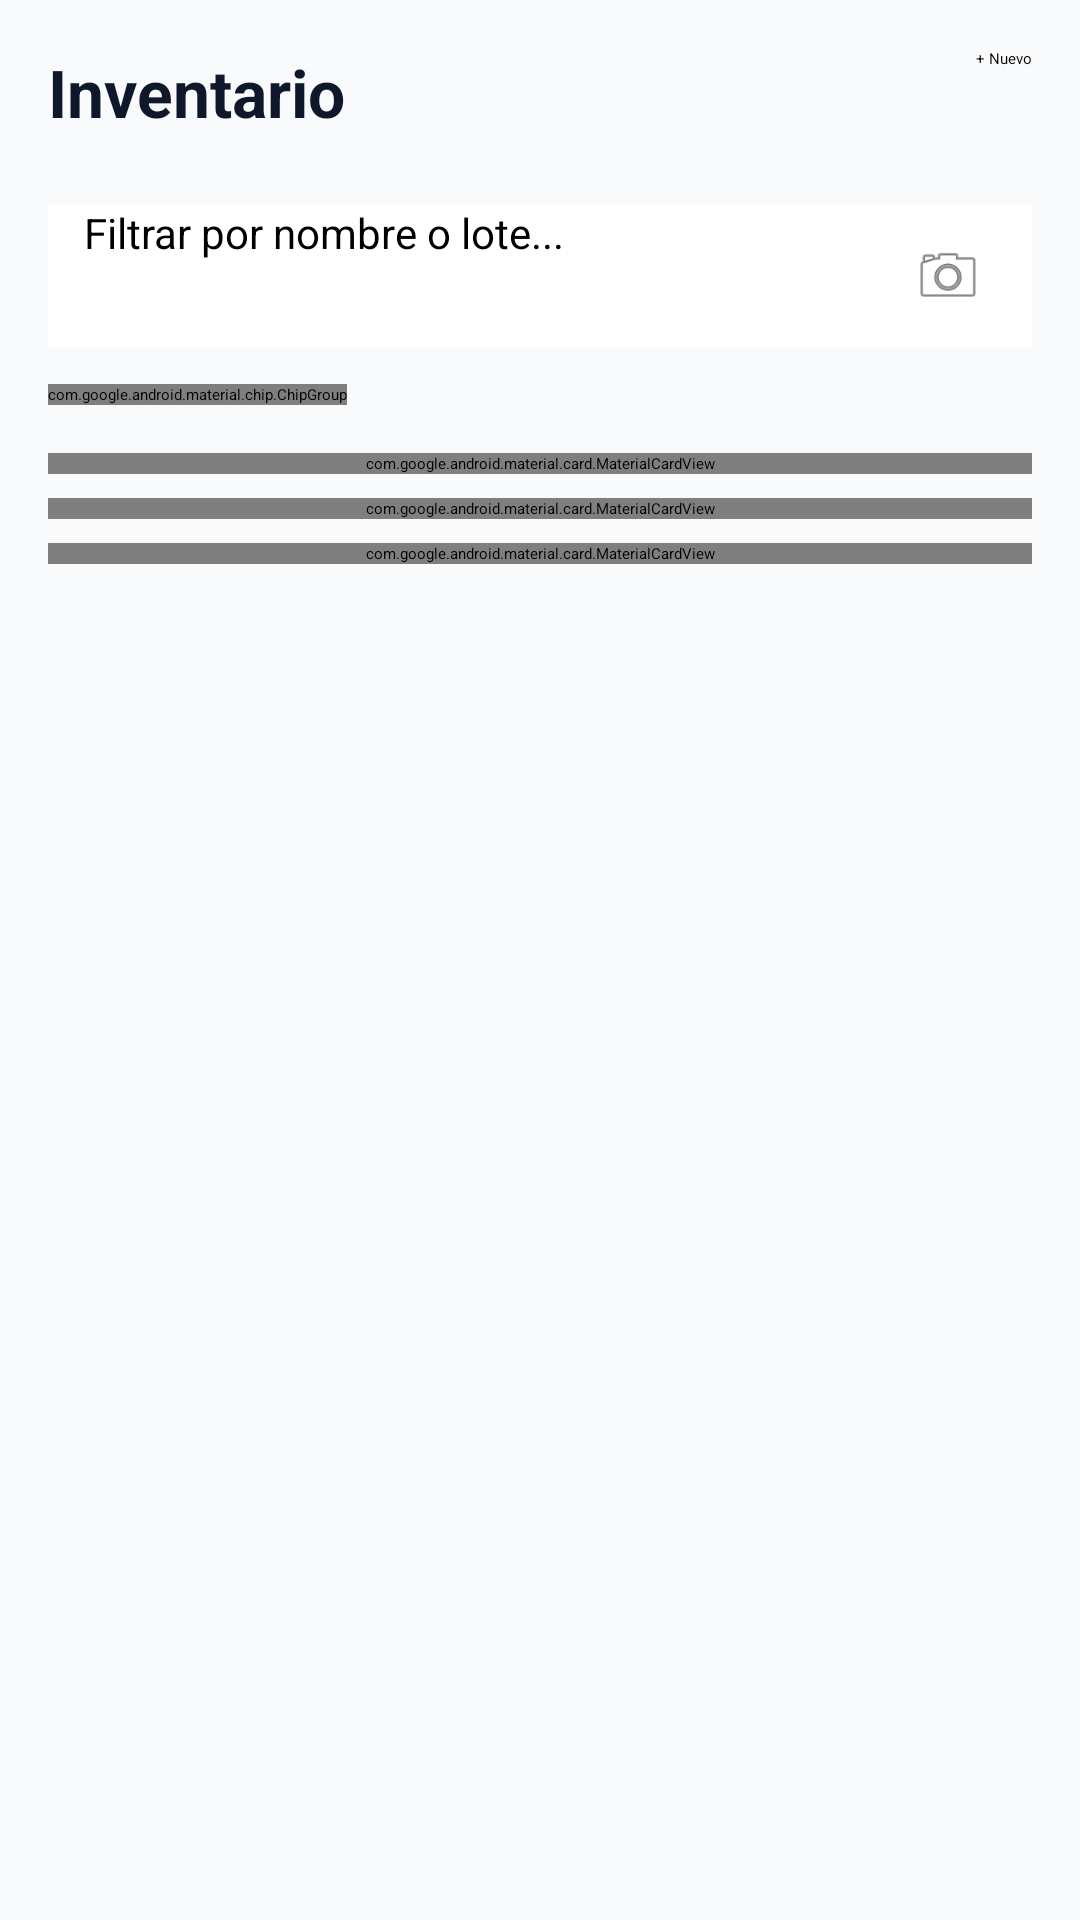

Screen size 1080px×1920px. Icon name, then its box in pixels as (x1, y1, x2, y2):
Escanear: (920, 253, 976, 297)
